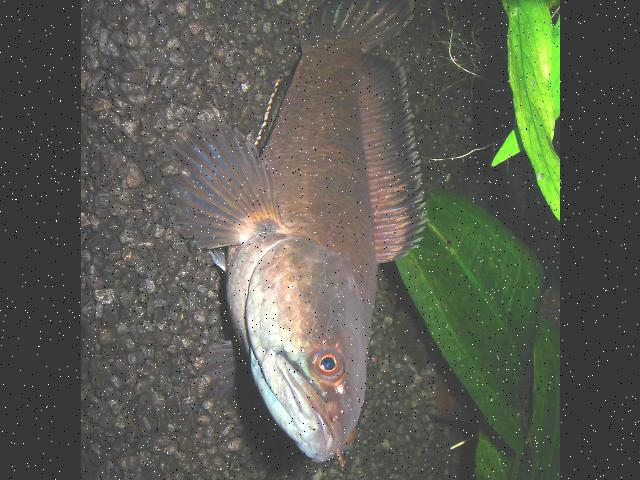Mulut: (262, 330, 352, 472)
Sirip Anal: (243, 52, 304, 160)
Sirip Dada: (162, 110, 290, 271), (184, 341, 246, 428)
Sirip Ekor: (284, 0, 419, 66)
Sirip Perut: (203, 243, 235, 284)
Sirip Punggung: (348, 36, 424, 280)
